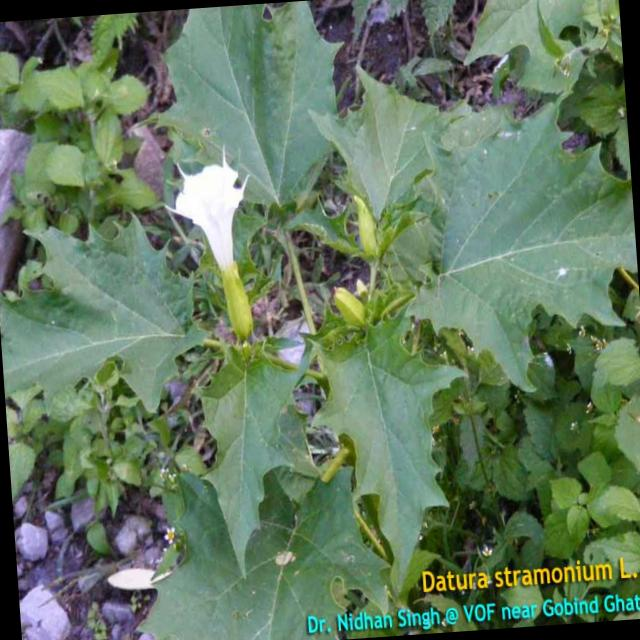Poisonous-Datura_Stramonium: (156, 416, 400, 618), (312, 171, 478, 426), (0, 211, 182, 437), (158, 157, 307, 427)
